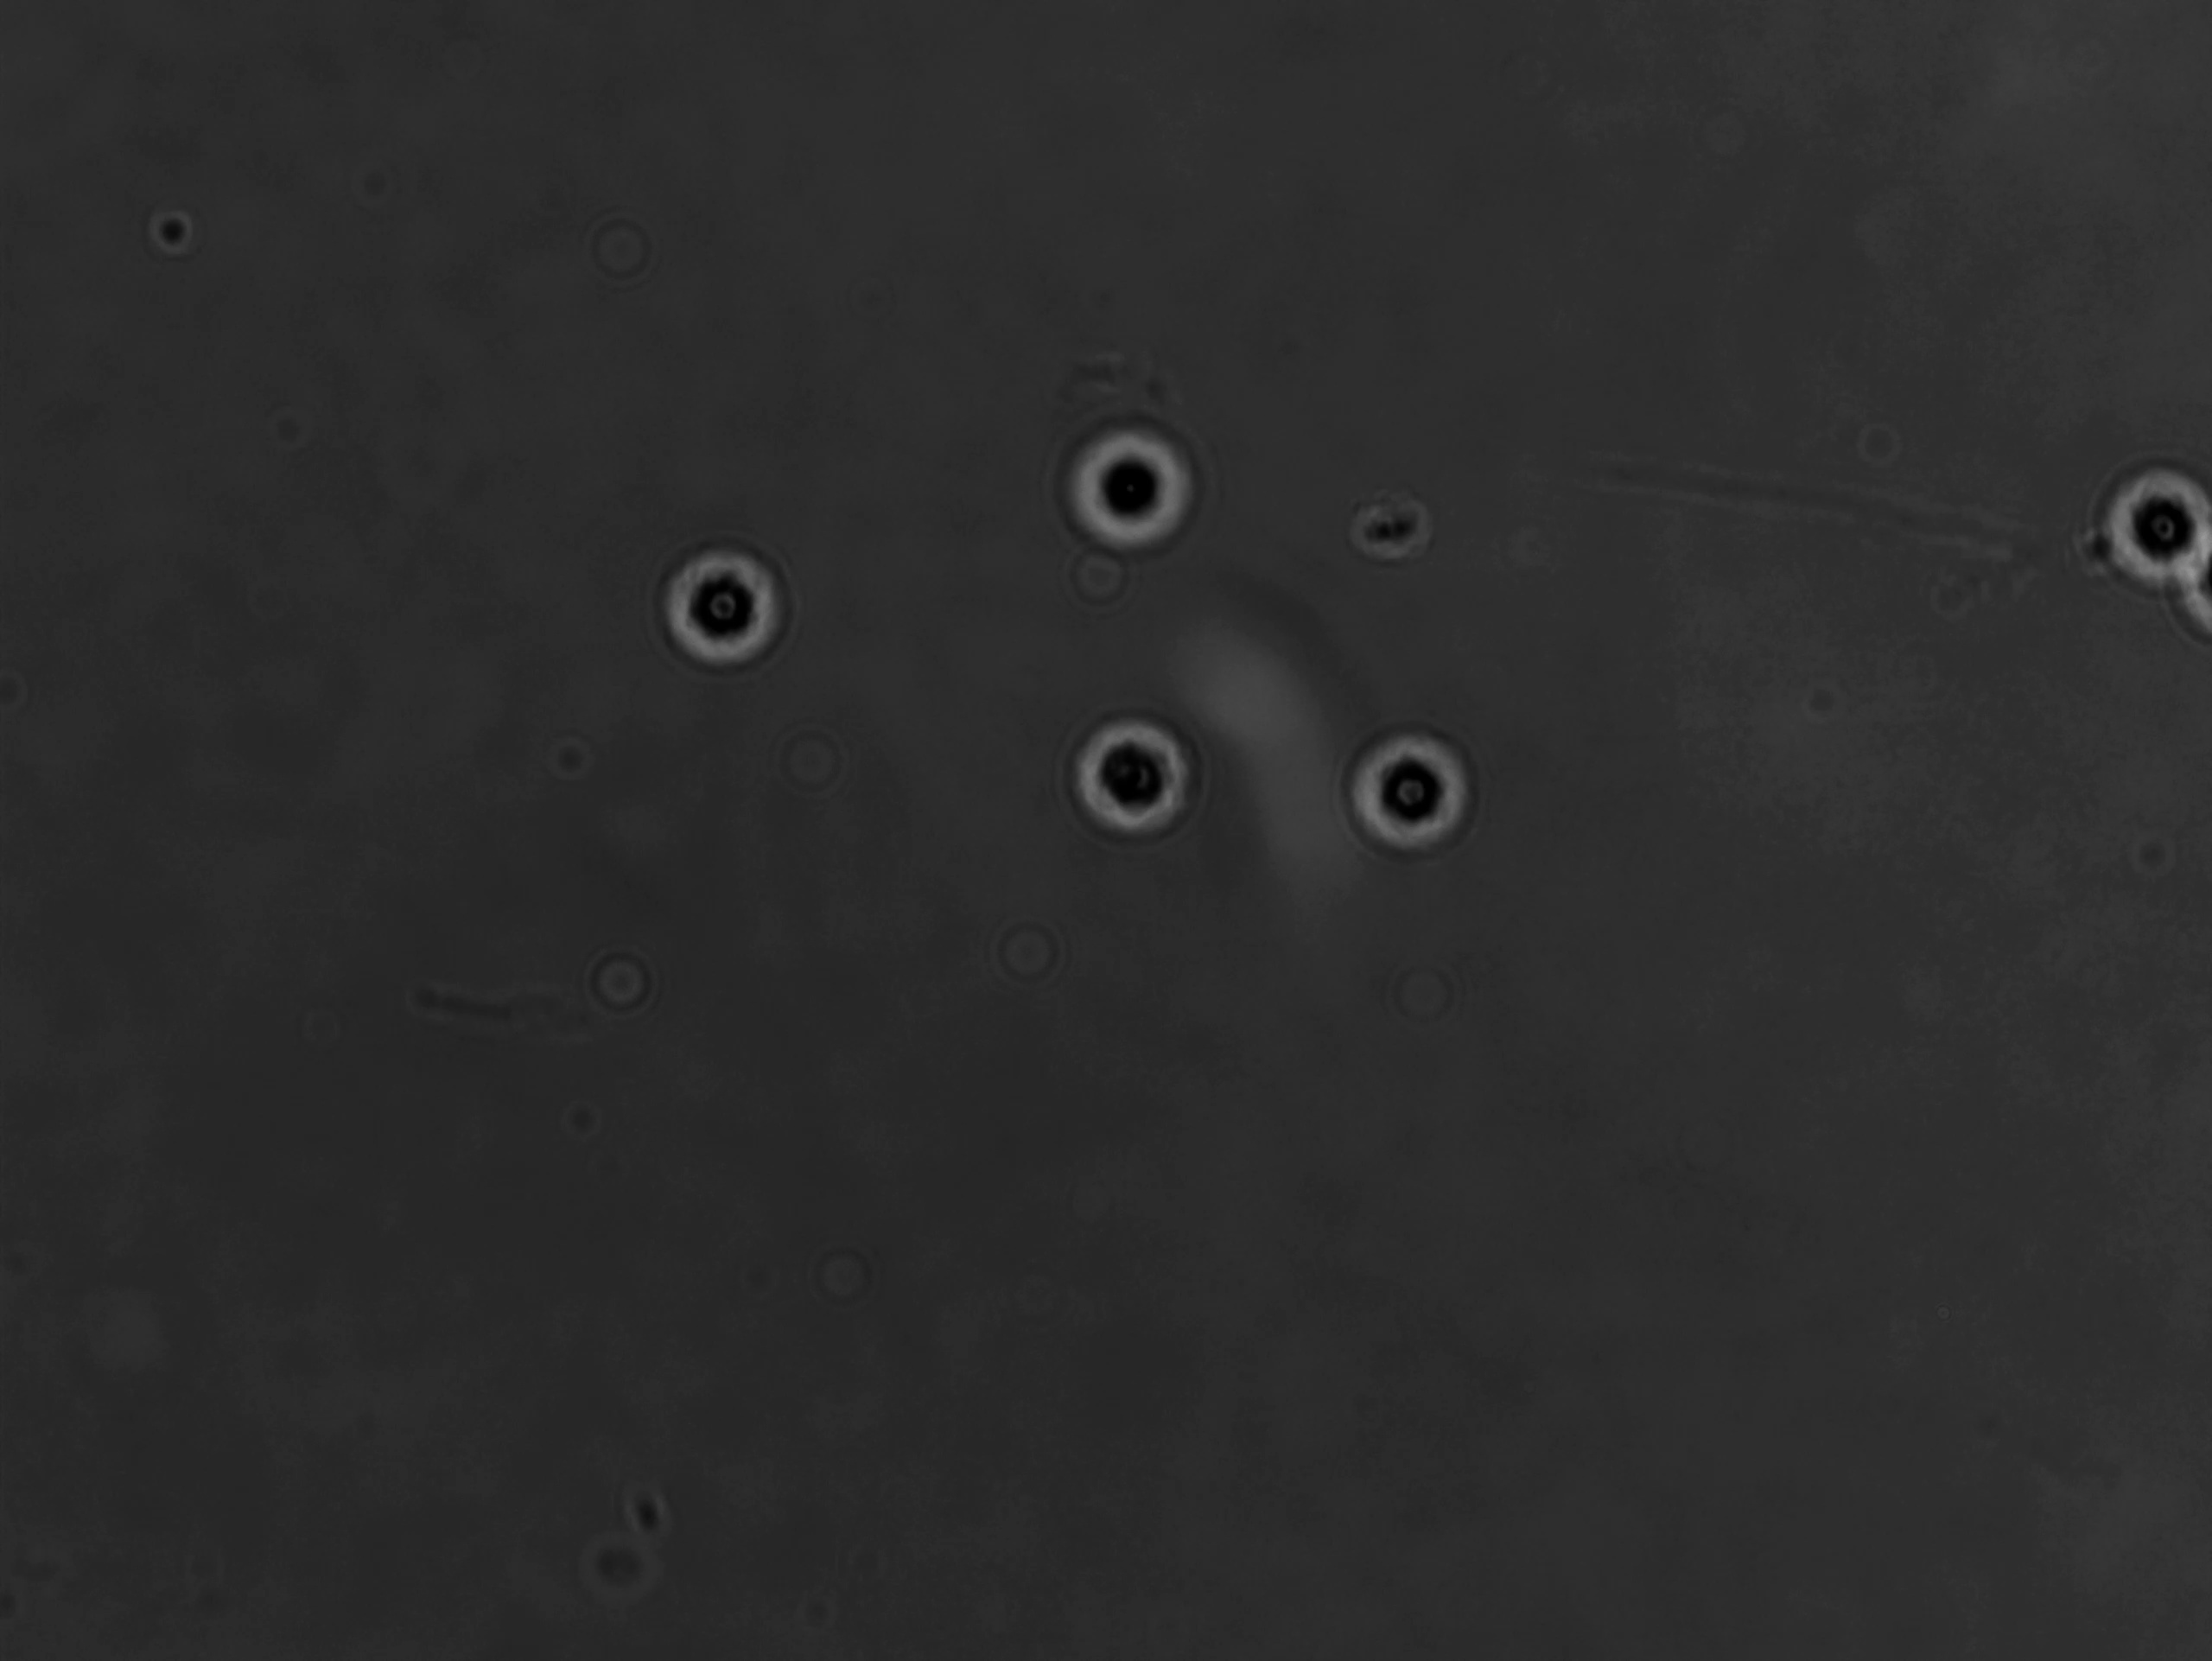depth:-20: (1036, 384, 1212, 567), (640, 518, 815, 689), (1043, 675, 1207, 851), (1335, 712, 1493, 871), (2071, 450, 2212, 611)
